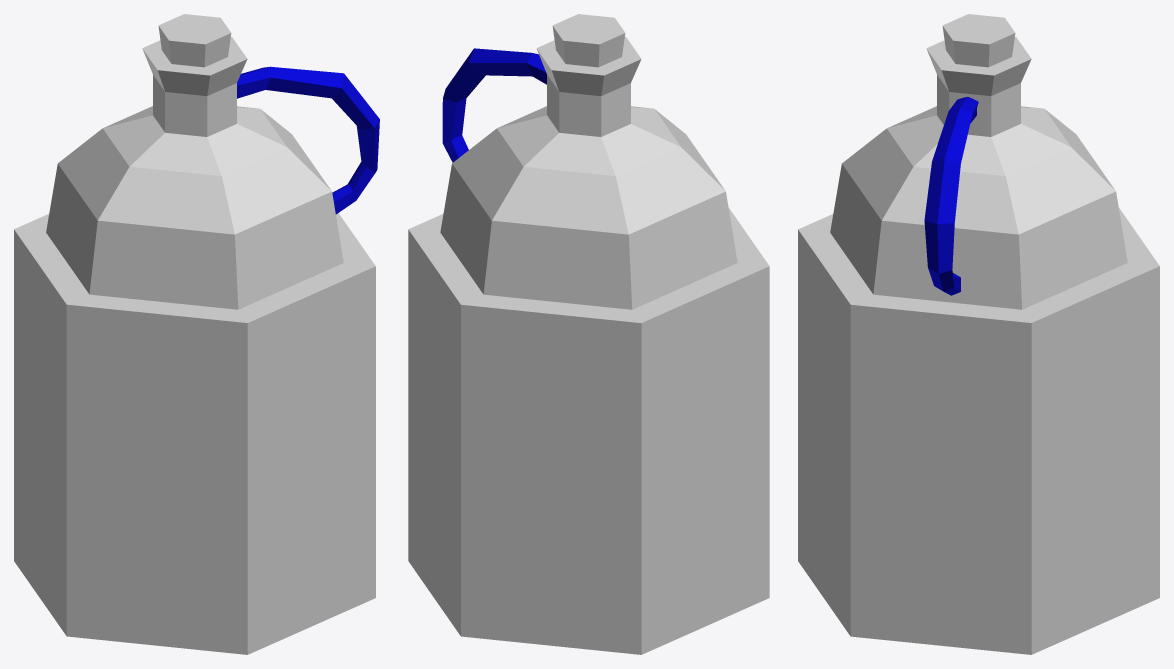
Rendered from EA03_Items_House_Bottle_01a.fbx.
3 renders of one model, left to right at view 1: azimuth 30°, elevation 25°; view 2: azimuth 150°, elevation 25°; view 3: azimuth 270°, elevation 25°, orthographic.
Parts seen in each view (by area): view 1: EA03_Items_House_Bottle_01a_LOD0; view 2: EA03_Items_House_Bottle_01a_LOD0; view 3: EA03_Items_House_Bottle_01a_LOD0.
Boxes of the visible parts, left/top/right/bottom form: EA03_Items_House_Bottle_01a_LOD0: left=14, top=14, right=379, bottom=654; EA03_Items_House_Bottle_01a_LOD0: left=408, top=14, right=769, bottom=654; EA03_Items_House_Bottle_01a_LOD0: left=798, top=14, right=1159, bottom=654.
Size of what is drawn, in the model's own units: 0.291 by 0.4804 by 0.2861.
